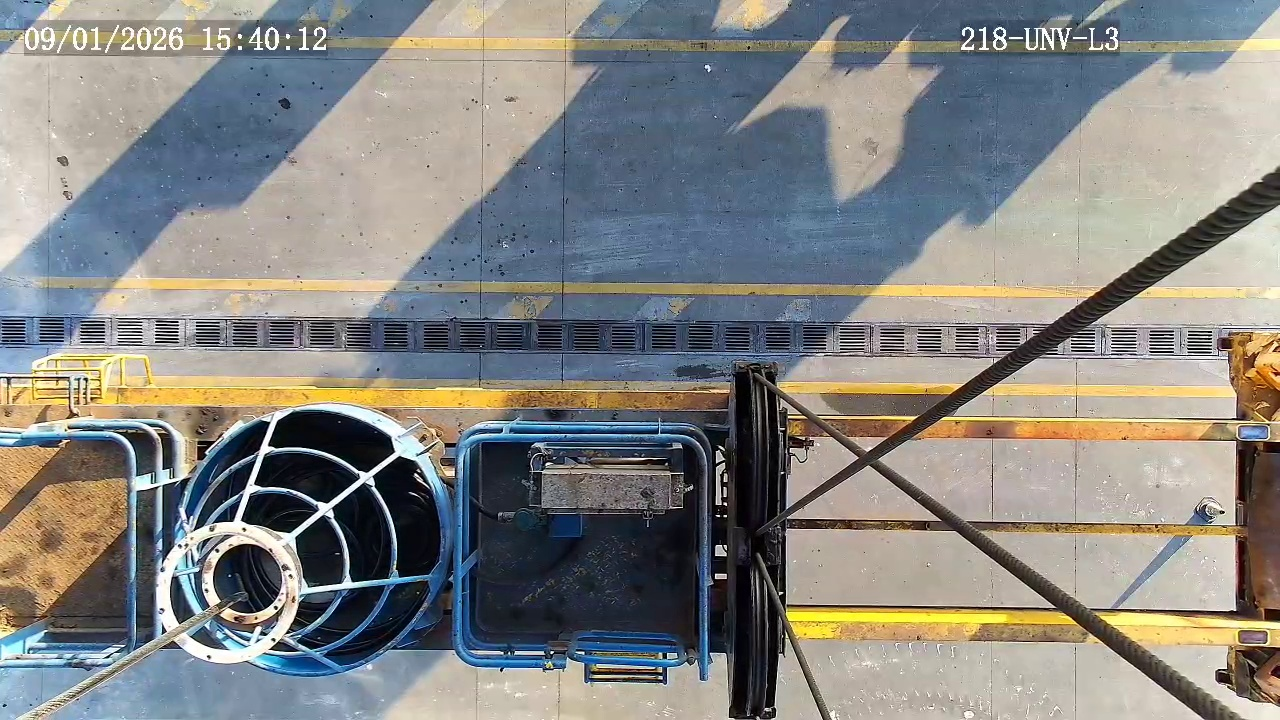right: (172, 407, 444, 677)
